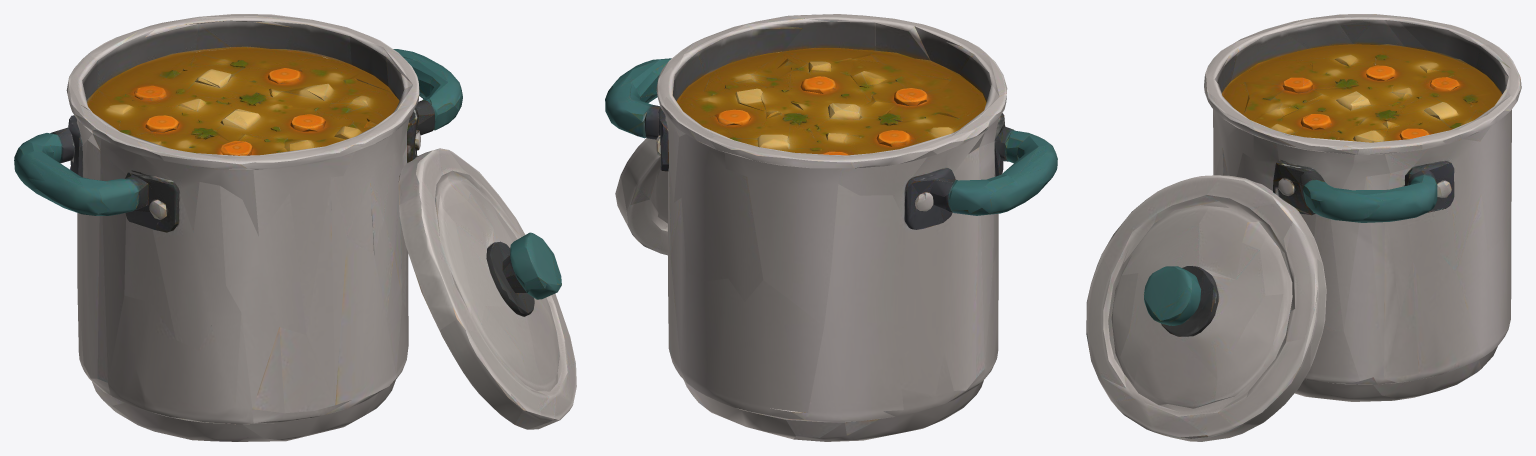
Rendered from rounded-restaurant-stock-pot-full.glb.
3 renders of one model, left to right at view 1: azimuth 30°, elevation 25°; view 2: azimuth 150°, elevation 25°; view 3: azimuth 270°, elevation 25°, orthographic. The views are drawn at different scales.
Visible parts, largest first — view 1: Mesh_0; view 2: Mesh_0; view 3: Mesh_0.
Part boxes in pixels (<box>): Mesh_0: <box>14,14,576,441</box>; Mesh_0: <box>605,14,1057,441</box>; Mesh_0: <box>1086,14,1521,441</box>.
Size of the model in its own units: 0.5 by 0.3013 by 0.4435.
Materials: 1 (1 with a texture image).
